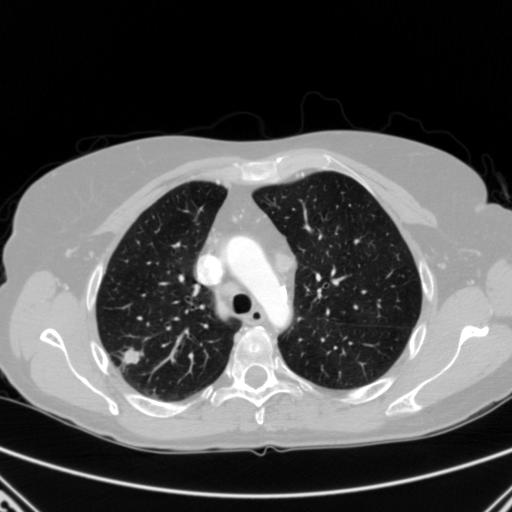nodule: (119, 345, 142, 368)
